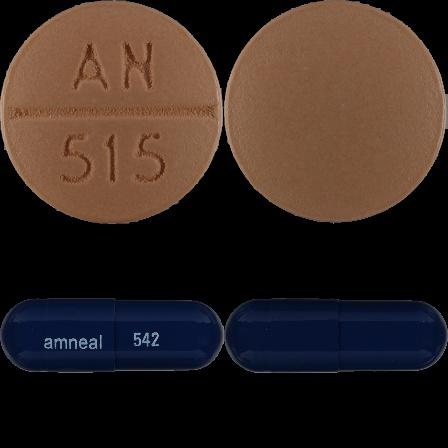53746-515: (0, 0, 224, 224)
